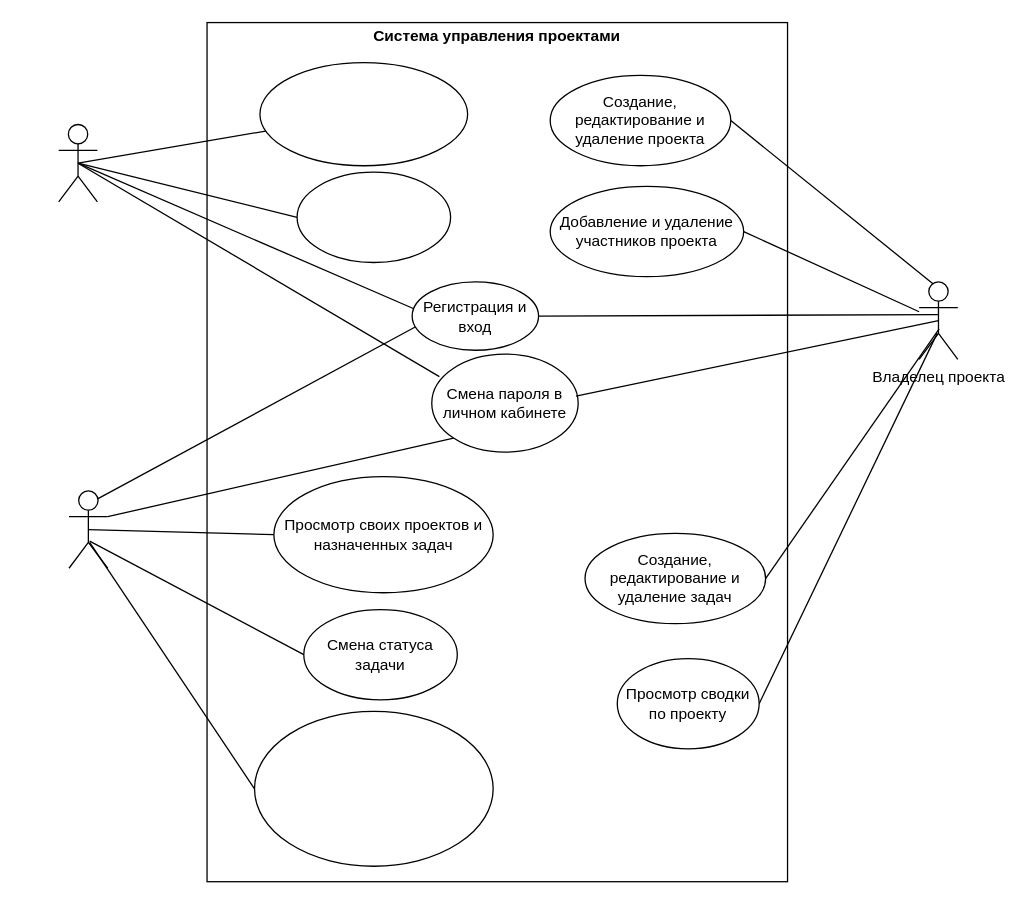
Some shapes in this 1027 by 904 pixel diagram are drawn without their labels. Here are the shapes that lost their labels. From the top down, the centre of each, then its label:
At pixel 363 113: "Управление аккаунтами (создание, блокировка, удаление)".
At pixel 77 162: "Администратор".
At pixel 373 217: "Просмотр всех проектов".
At pixel 88 529: "Исполнитель".
At pixel 373 788: "Создание собственных задач для себя (редактирование и удаление своей задачи)".
